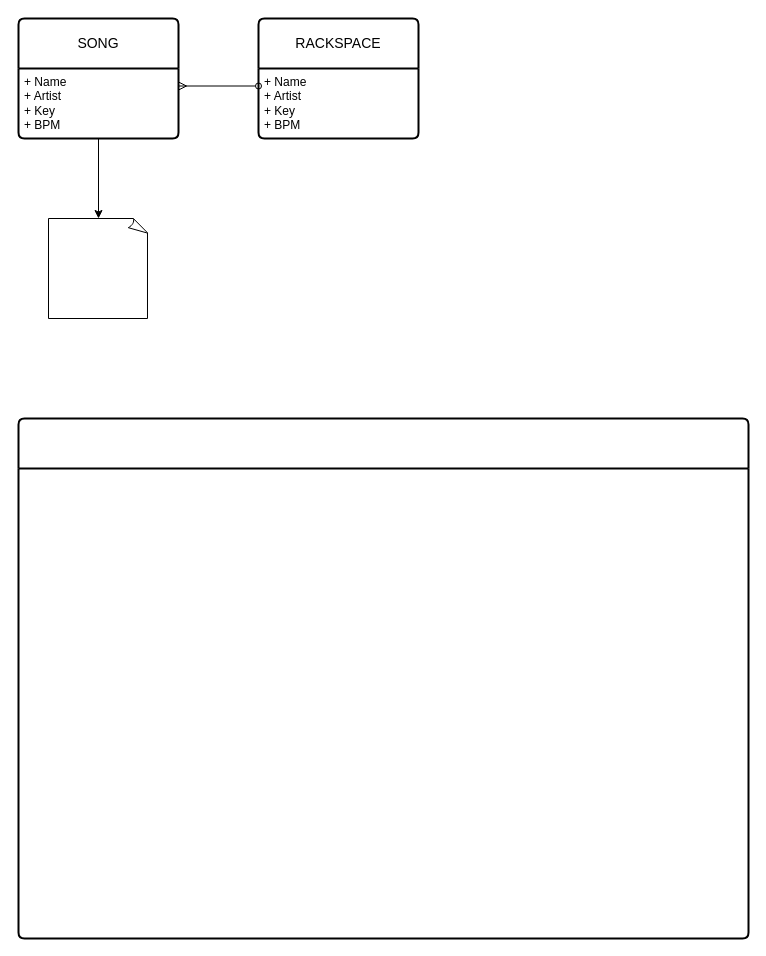
This 766x956 diagram has some shape labels left out. Each missing label, with the centre of its shape:
".gpsong" goes at (98,268).
"Gig File" goes at (383,678).
